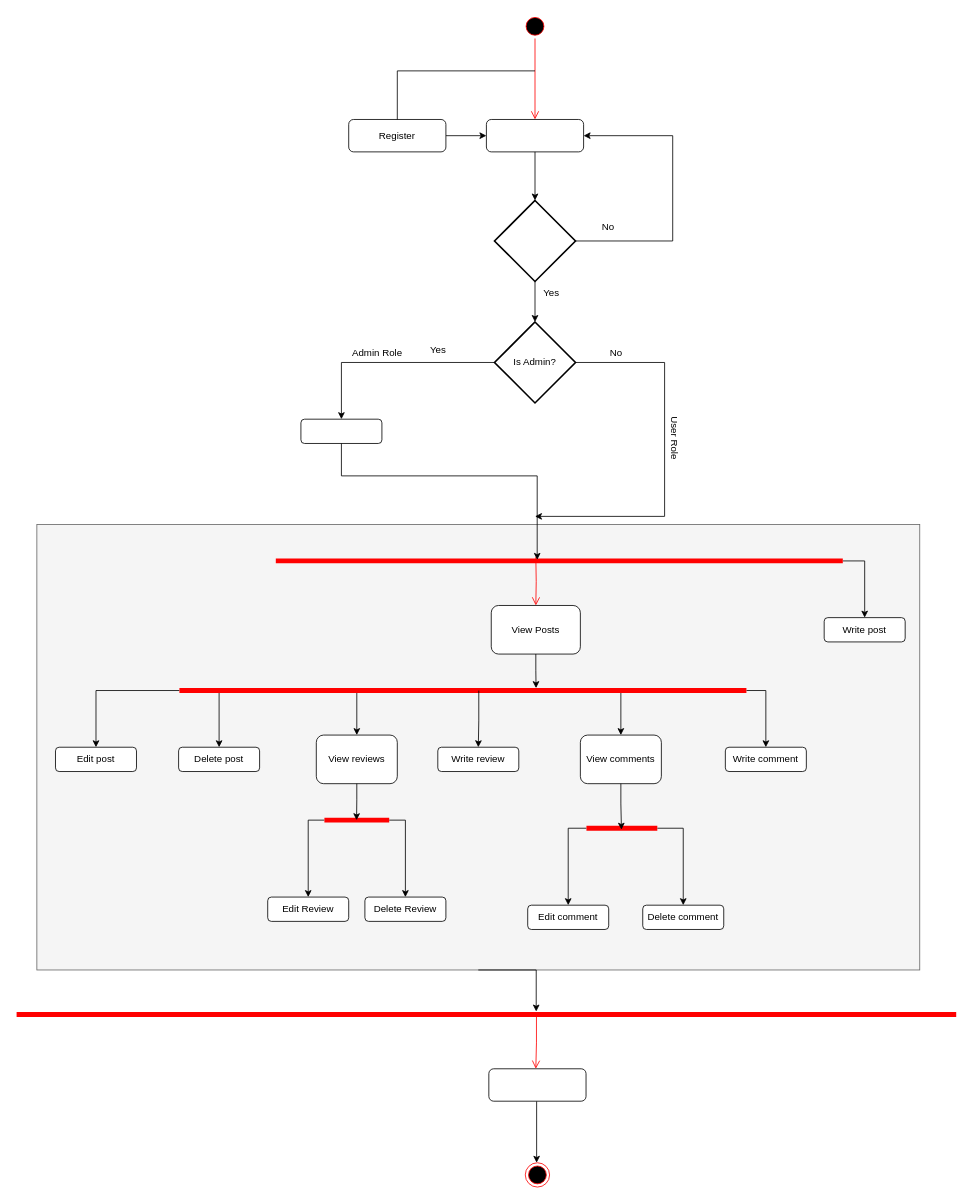
Image size: 972x1201. Some labels were removed from this diagram. Here are the shapes that lost their labels. From the top down, the centre of each, then its label:
At pixel 535 135: "Login".
At pixel 534 240: "Authen".
At pixel 341 430: "Delete user with his Data".
At pixel 537 1084: "logout".
